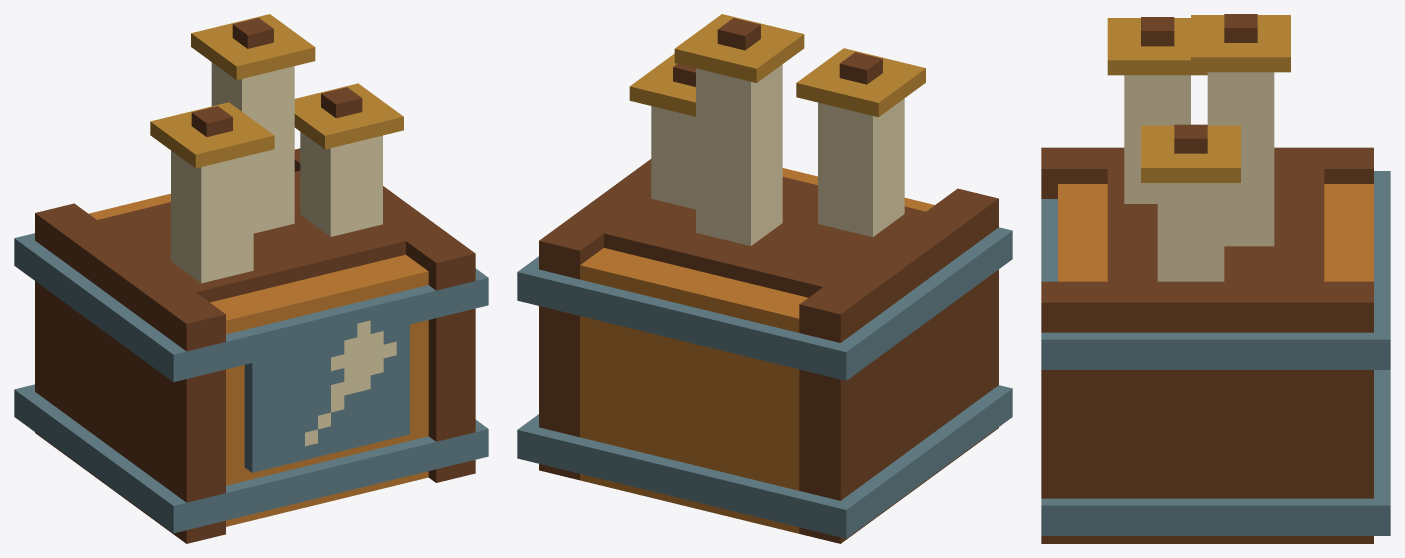
Rendered from voxel_32_70010.glb.
3 renders of one model, left to right at view 1: azimuth 30°, elevation 25°; view 2: azimuth 150°, elevation 25°; view 3: azimuth 270°, elevation 25°, orthographic. The views are drawn at different scales.
Visible parts, largest first — view 1: prop_70010; view 2: prop_70010; view 3: prop_70010.
Boxes of the visible parts, box(x1,y1,x2,y2) form: prop_70010: box(14, 14, 488, 543); prop_70010: box(517, 14, 1012, 543); prop_70010: box(1041, 14, 1390, 543).
Bounding box in the file's own units: 0.6225 × 0.7781 × 0.5447.
